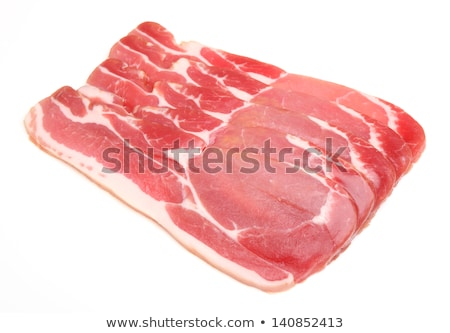bacon: (60, 33, 413, 274)
